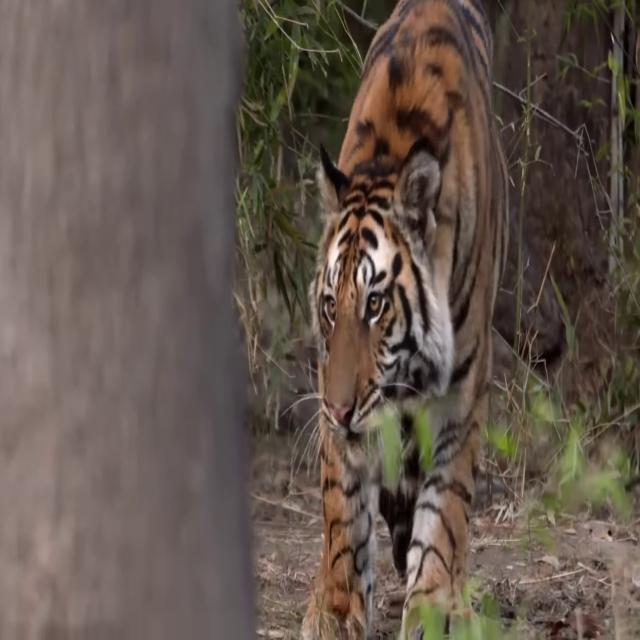tiger: (300, 0, 510, 640)
